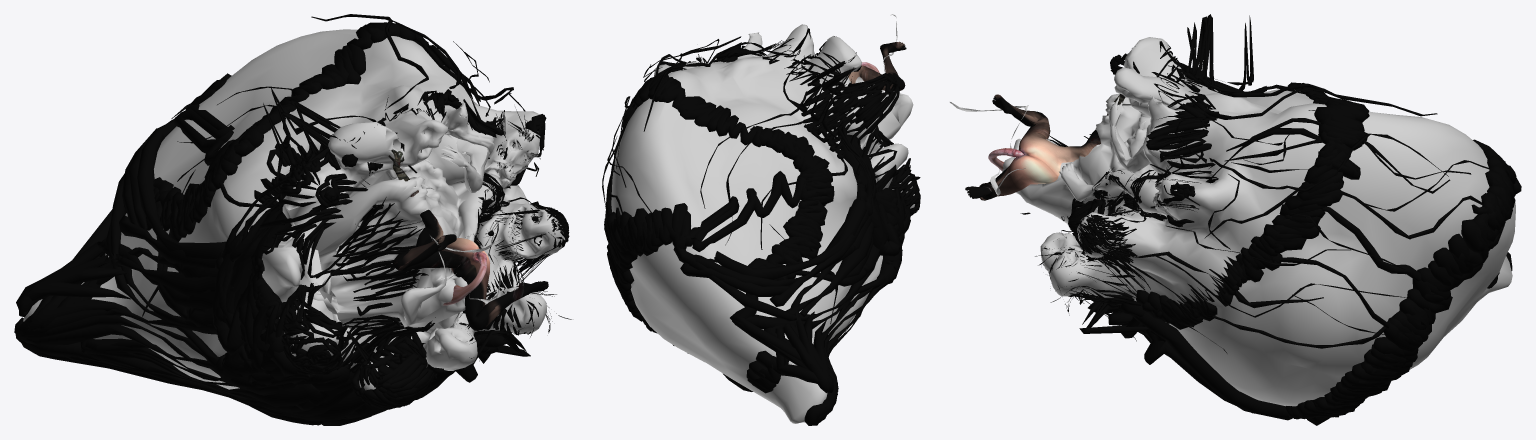
File: xxx.gltf
3 views of the same model, side by side, from view 1: azimuth 30°, elevation 25°; view 2: azimuth 150°, elevation 25°; view 3: azimuth 270°, elevation 25° (orthographic). The views are drawn at different scales.
Parts seen in each view (by area): view 1: BODOLD.002, BODOLD.001; view 2: BODOLD.002, BODOLD.001; view 3: BODOLD.002, BODOLD.001.
Boxes of the visible parts, box(x1,y1,x2,y2) form: BODOLD.002: box(14, 14, 571, 425); BODOLD.001: box(388, 149, 548, 330); BODOLD.002: box(602, 14, 920, 425); BODOLD.001: box(848, 41, 906, 90); BODOLD.002: box(949, 14, 1521, 425); BODOLD.001: box(965, 94, 1125, 200).
Size of the model in its own units: 7 by 6.89 by 9.59.
